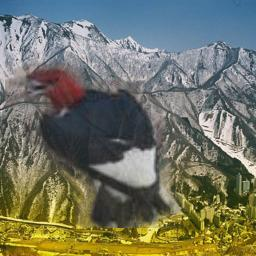Woodpecker: (5, 61, 184, 228)
